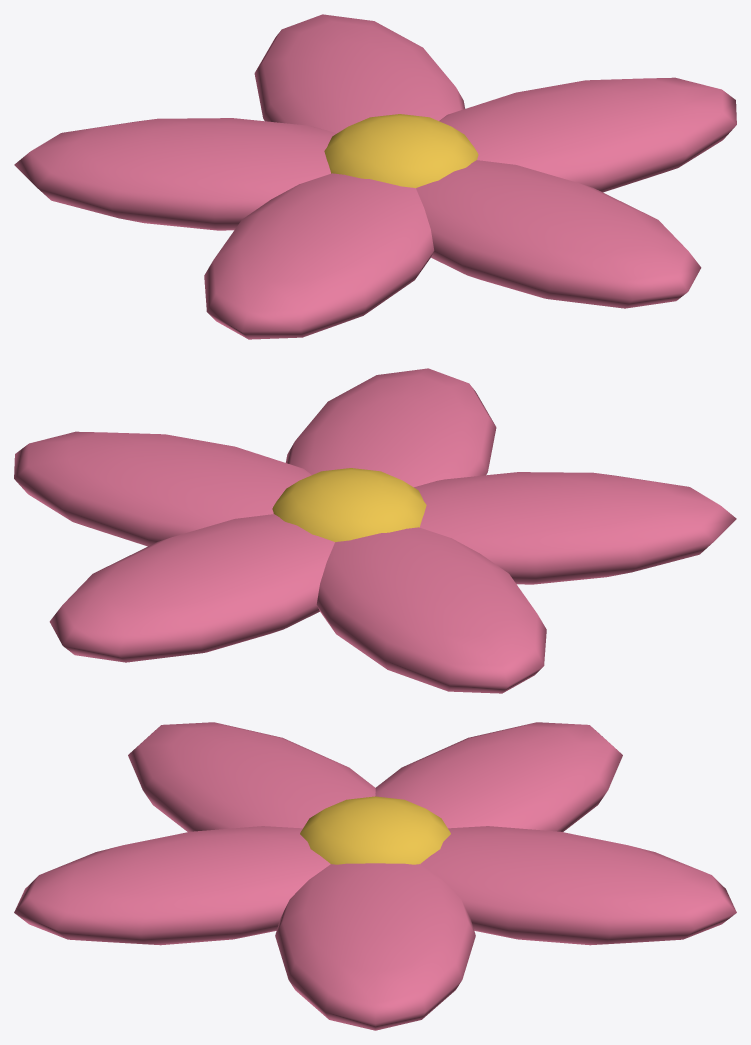
File: flower-five.glb
3 renders of one model, top to bottom at view 1: azimuth 30°, elevation 25°; view 2: azimuth 150°, elevation 25°; view 3: azimuth 270°, elevation 25°, orthographic. The views are drawn at different scales.
Parts seen in each view (by area): view 1: tint-petal-1, tint-petal-2, tint-petal-3, tint-petal-0, tint-petal-4, flower-five; view 2: tint-petal-4, tint-petal-3, tint-petal-2, tint-petal-0, tint-petal-1, flower-five; view 3: tint-petal-1, tint-petal-4, tint-petal-0, tint-petal-2, tint-petal-3, flower-five.
Boxes of the visible parts, left/top/right/bottom form: tint-petal-1: left=416, top=160, right=701, bottom=308; tint-petal-2: left=204, top=173, right=434, bottom=339; tint-petal-3: left=14, top=118, right=336, bottom=230; tint-petal-0: left=439, top=77, right=736, bottom=192; tint-petal-4: left=254, top=14, right=465, bottom=133; flower-five: left=324, top=114, right=478, bottom=188; tint-petal-4: left=49, top=514, right=334, bottom=662; tint-petal-3: left=316, top=527, right=546, bottom=693; tint-petal-2: left=414, top=472, right=736, bottom=584; tint-petal-0: left=14, top=431, right=311, bottom=546; tint-petal-1: left=285, top=368, right=496, bottom=487; flower-five: left=272, top=468, right=426, bottom=542; tint-petal-1: left=14, top=826, right=330, bottom=945; tint-petal-4: left=420, top=826, right=736, bottom=945; tint-petal-0: left=275, top=863, right=475, bottom=1030; tint-petal-2: left=128, top=722, right=375, bottom=831; tint-petal-3: left=375, top=722, right=622, bottom=831; flower-five: left=300, top=796, right=450, bottom=864.
Bounding box in the file's own units: 0.9685 × 0.1383 × 1.01.
